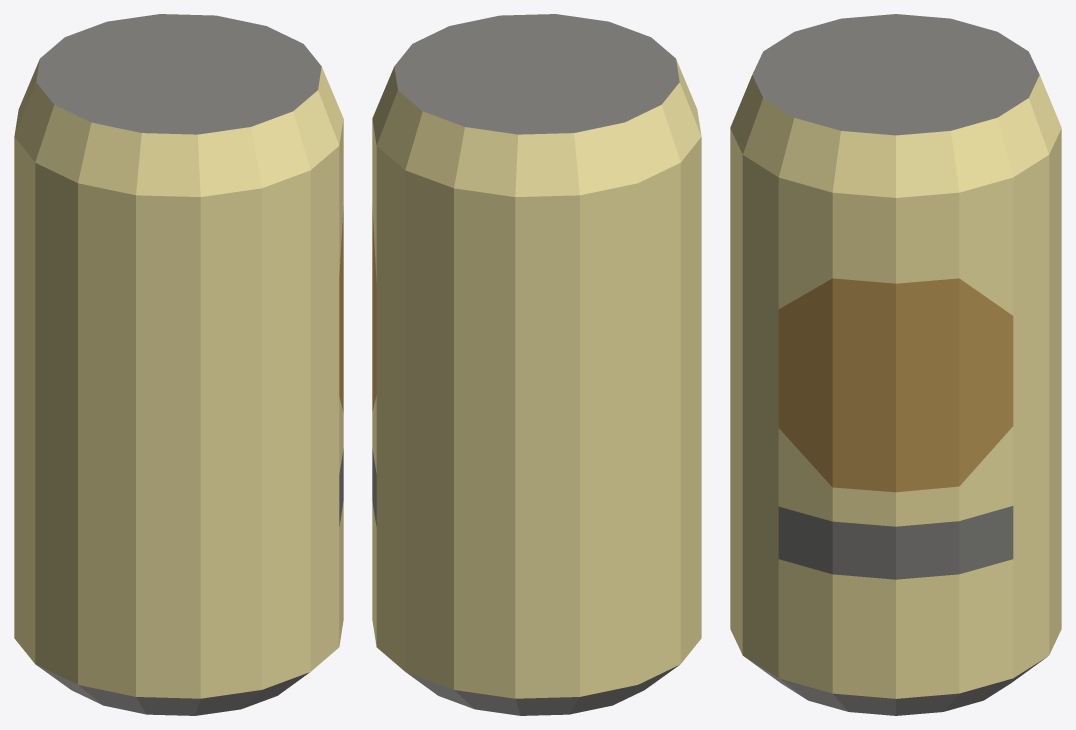
File: lata3.glb
The picture shows the model from 3 angles, left to right: view 1: azimuth 30°, elevation 25°; view 2: azimuth 150°, elevation 25°; view 3: azimuth 270°, elevation 25°; orthographic projection.
Visible parts, largest first — view 1: Cilindro.001; view 2: Cilindro.001; view 3: Cilindro.001.
Part boxes in pixels (x1,y1,x2,y2): Cilindro.001: (14,14,343,715); Cilindro.001: (372,14,701,715); Cilindro.001: (730,14,1061,715).
Size of the model in its own units: 0.182 by 0.3565 by 0.182.
